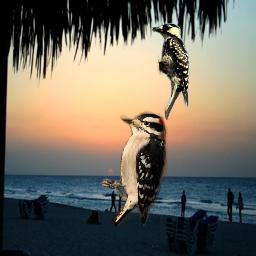Woodpecker: (100, 110, 168, 226), (150, 23, 191, 121)
